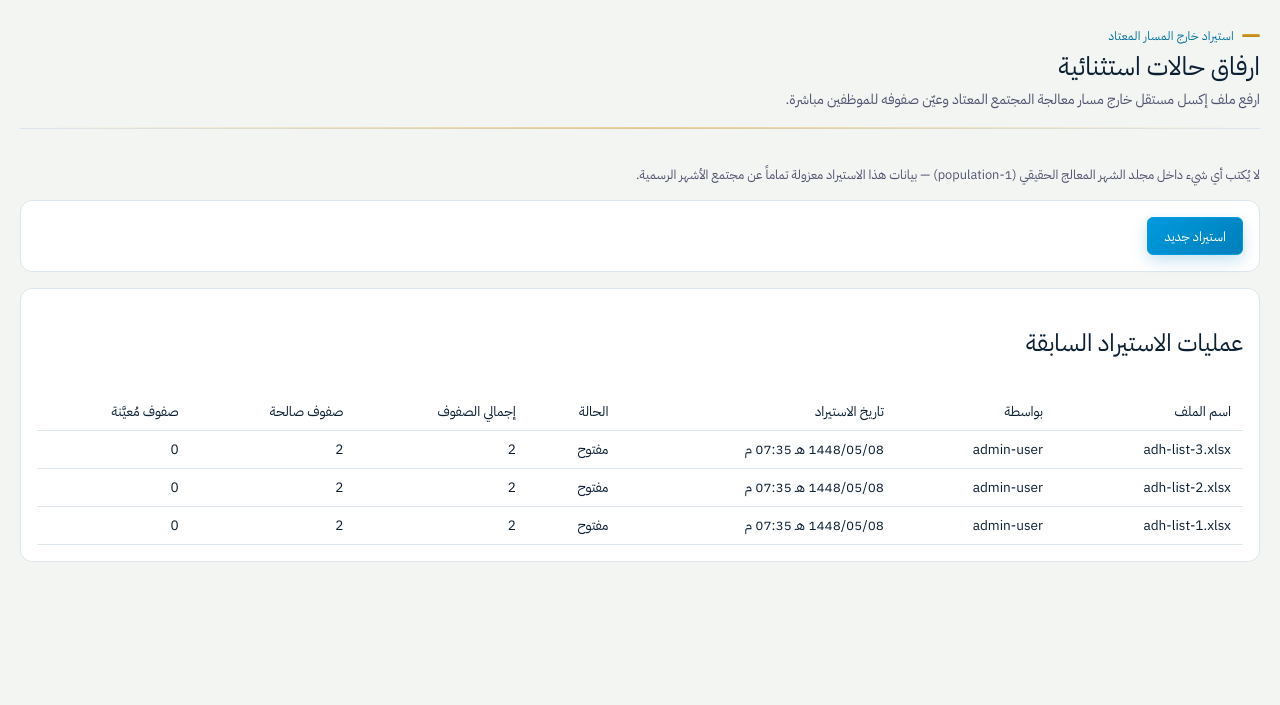
Test: AdhocImportTab — list and review › an isolated import reports that it links to no month
This screenshot has width=1280, height=705.
Click the text "adh-list-3.xlsx".
click(640, 450)  # box left=37, top=431, right=1243, bottom=469
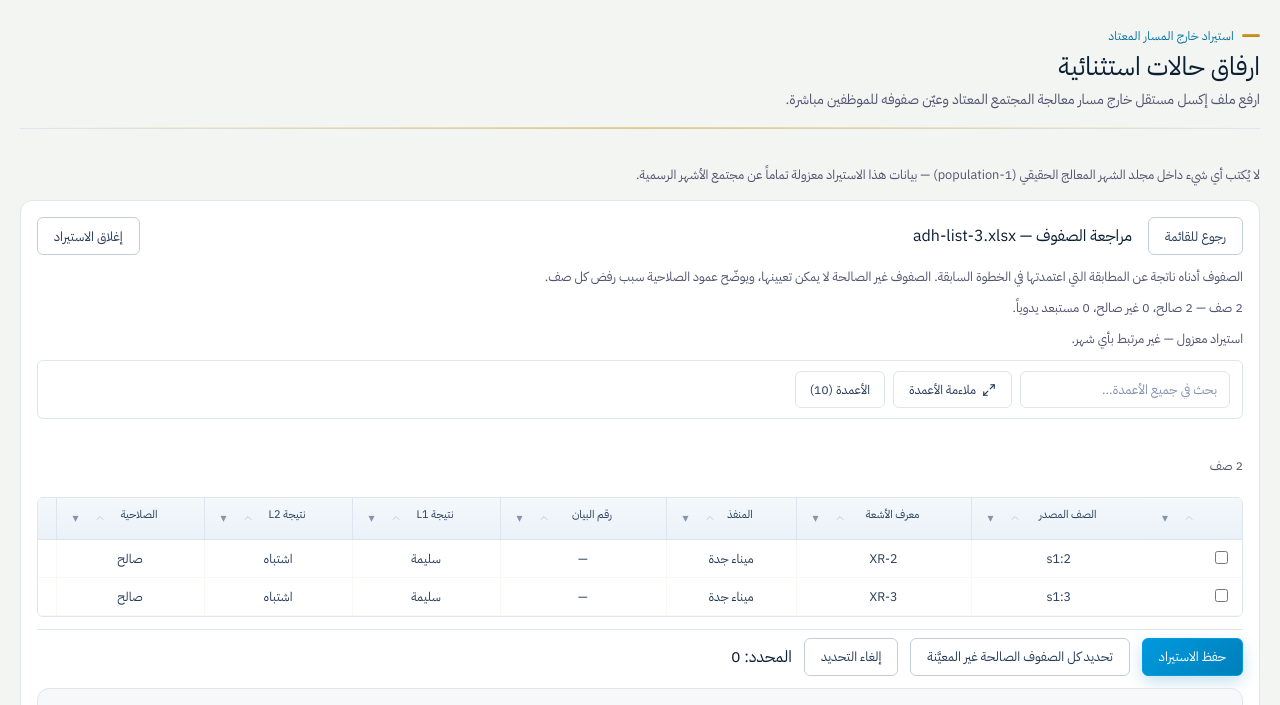
expect the text "استيراد معزول — غير مرتبط بأي شهر." is shown: met, box left=1072, top=329, right=1243, bottom=348
